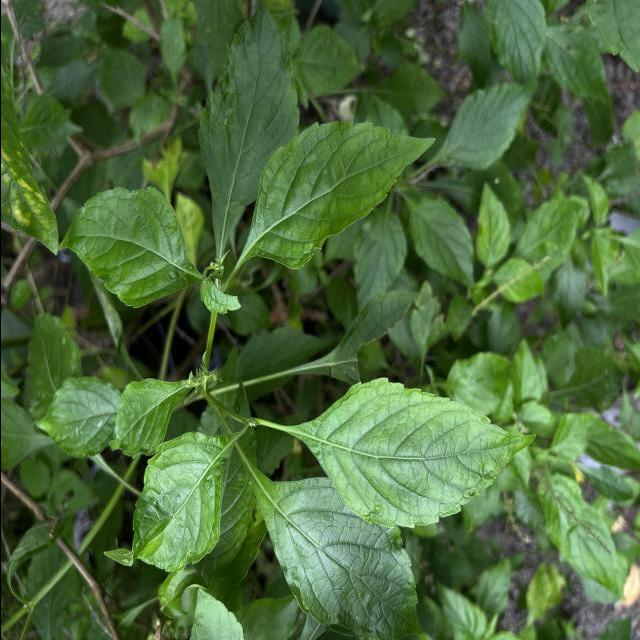Ocimum gratissimum: (258, 372, 540, 532), (236, 452, 429, 640), (223, 118, 438, 274), (194, 4, 300, 262), (98, 429, 248, 576), (53, 182, 203, 312), (105, 376, 198, 460)
